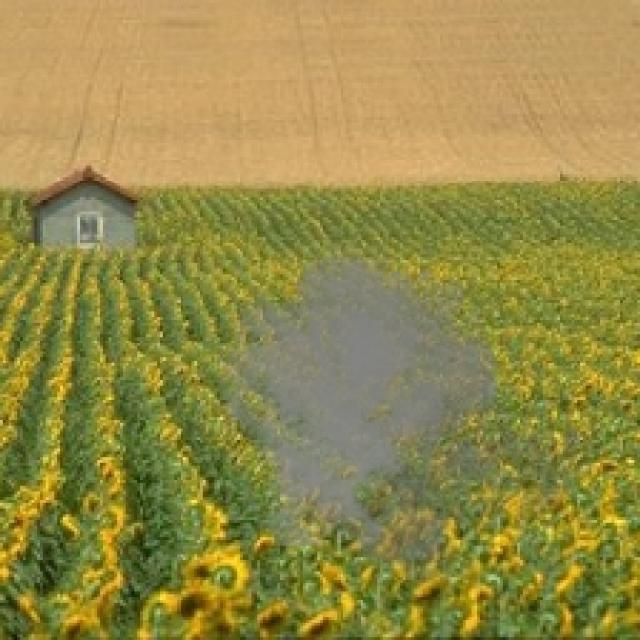smoke: (211, 228, 600, 588)
